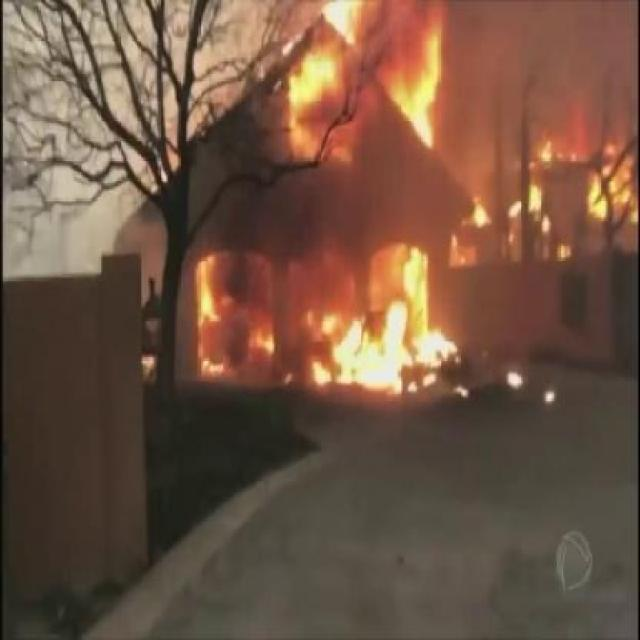Fire: (300, 292, 465, 400), (198, 271, 276, 384), (388, 20, 448, 152), (296, 50, 353, 164), (584, 132, 638, 222), (510, 182, 552, 235), (528, 129, 564, 169), (464, 194, 492, 240), (542, 383, 560, 408), (506, 372, 524, 390), (558, 243, 570, 257)
